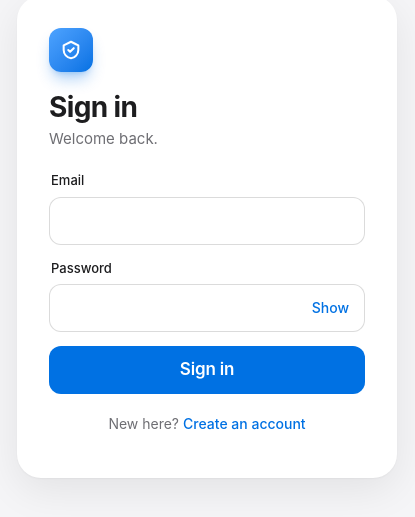
Test case: sign-in through the real client › a 400 envelope with details for email appears on the email field
This screenshot has width=415, height=517.
In the field labelled "Email": (207, 221) [49, 197, 365, 245], type "ada@example.com"
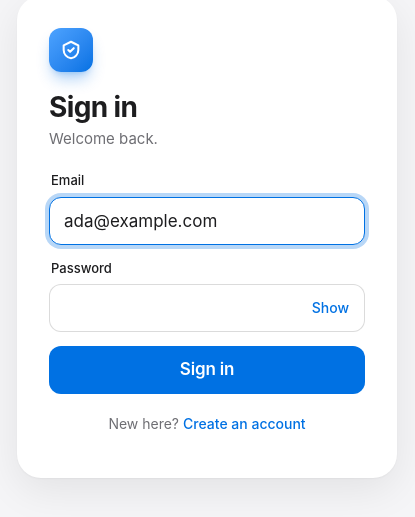
In the password field labelled "Password": (207, 308) [49, 284, 365, 332], type "secret"
Then press Enter
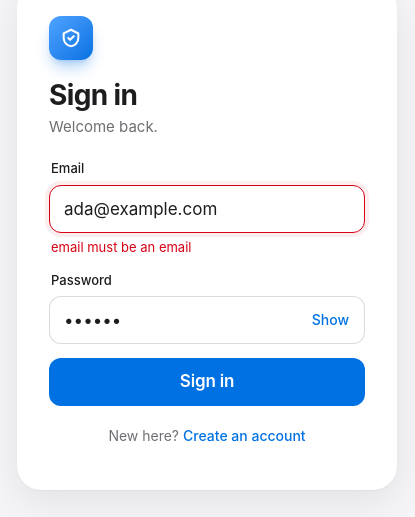
Check: the text "email must be an email" is shown, box [51, 239, 192, 255]
